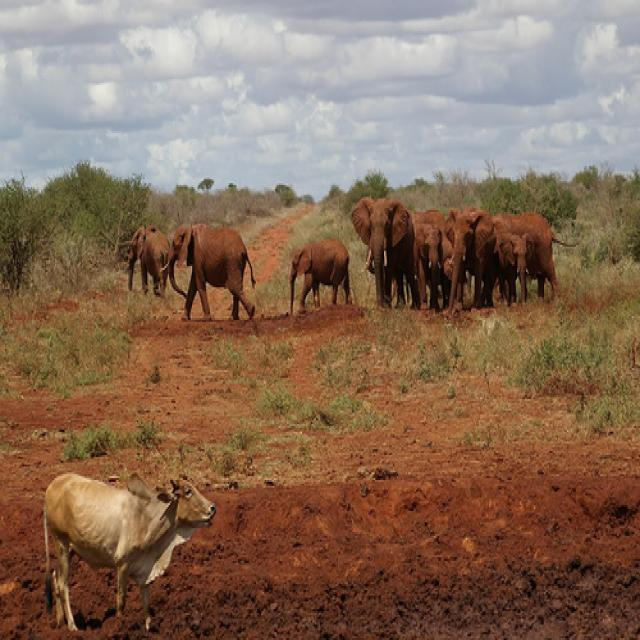cow: (42, 469, 215, 631)
